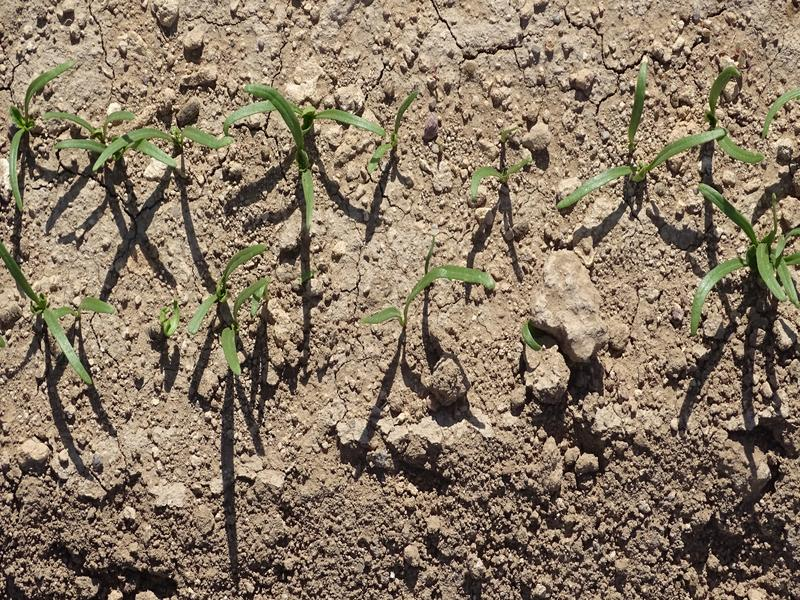Espinaca: (4, 79, 419, 216), (558, 66, 755, 194), (1, 237, 112, 385), (689, 184, 797, 327), (190, 246, 273, 368), (359, 263, 492, 325), (465, 155, 532, 203)
